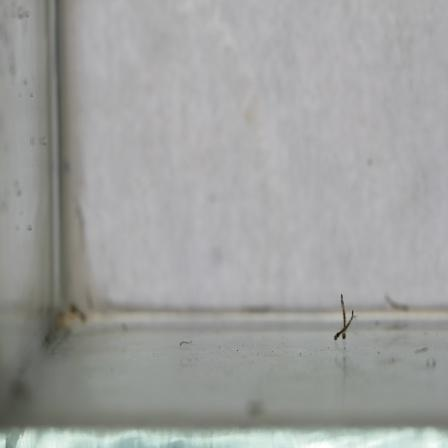Jentik-Nyamuk: (328, 290, 358, 344)
